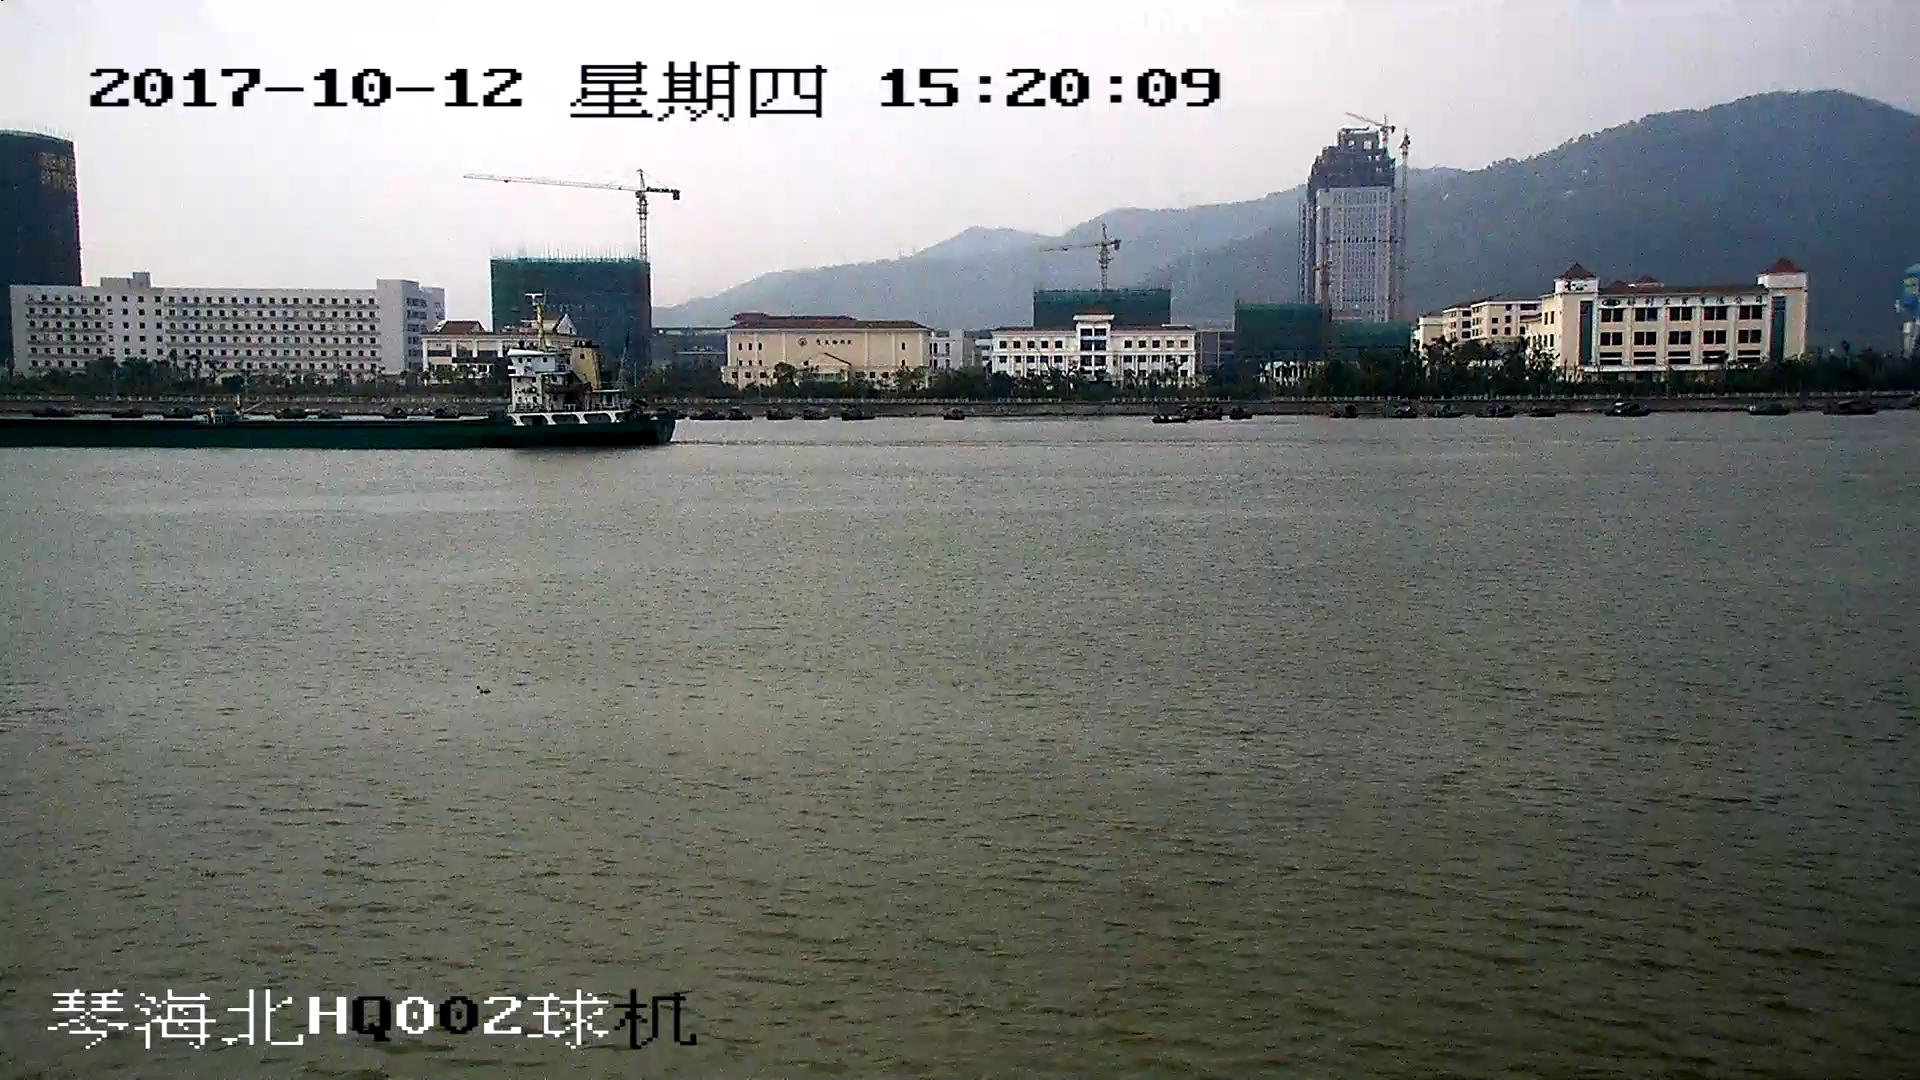general cargo ship: (1, 346, 677, 450)
